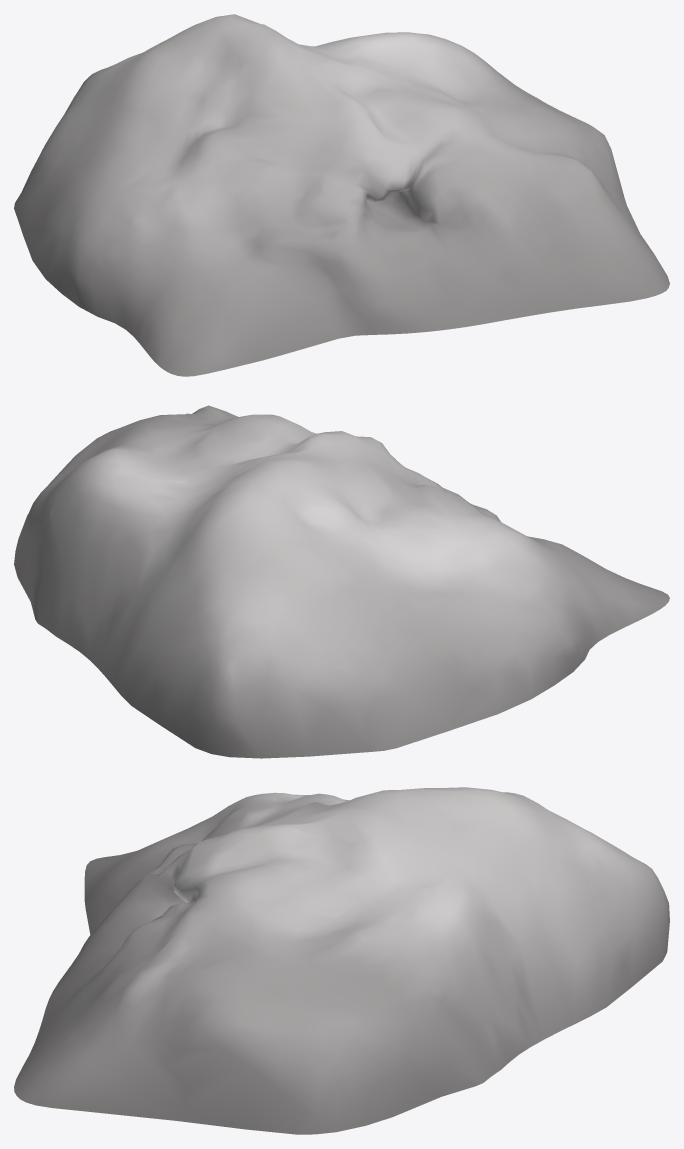
File: Mountain_09.glb
The picture shows the model from 3 angles, top to bottom: view 1: azimuth 30°, elevation 25°; view 2: azimuth 150°, elevation 25°; view 3: azimuth 270°, elevation 25°; orthographic projection. The views are drawn at different scales.
Visible parts, largest first — view 1: Mountain_09; view 2: Mountain_09; view 3: Mountain_09.
Part boxes in pixels (x1,y1,x2,y2): Mountain_09: (14,14,669,376); Mountain_09: (14,405,669,758); Mountain_09: (14,787,669,1134).
Bounding box in the file's own units: 18.31 × 5.85 × 18.24.
1 material, 1 textured.
